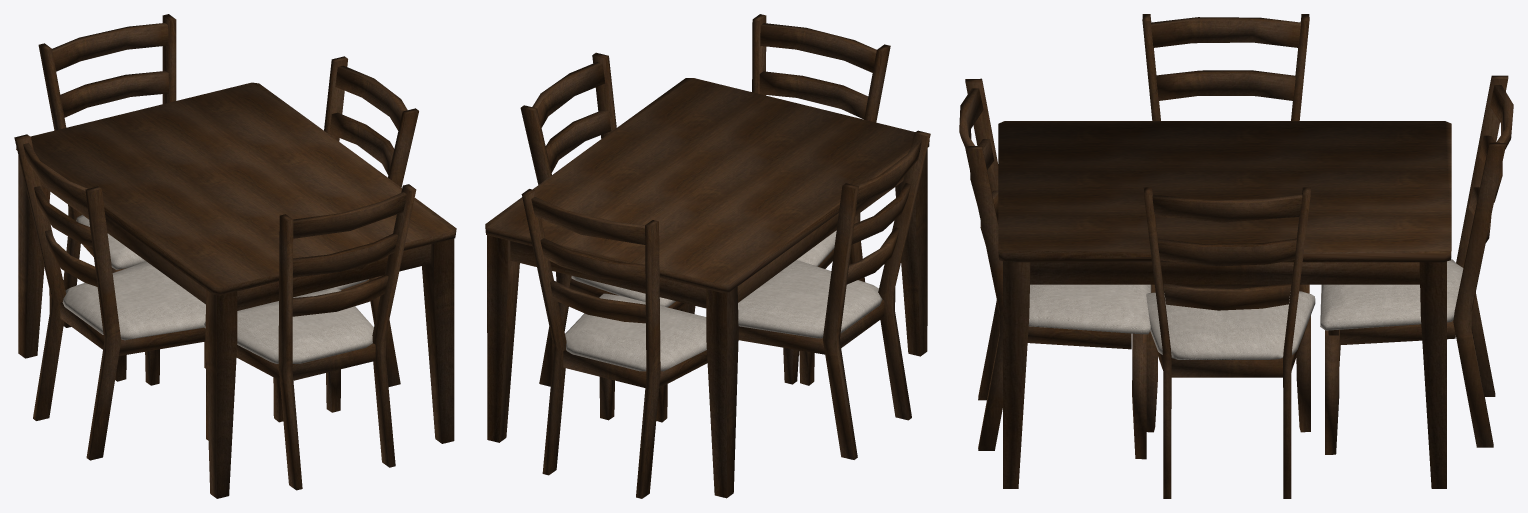
Rendered from Dining.fbx.
3 views of the same model, side by side, from view 1: azimuth 30°, elevation 25°; view 2: azimuth 150°, elevation 25°; view 3: azimuth 270°, elevation 25° (orthographic). The views are drawn at different scales.
Parts seen in each view (by area): view 1: Oslo Dining Table Set, Oslo Dining Table Set.003, Oslo Dining Table Set.004, Oslo Dining Table Set.001, Oslo Dining Table Set.002; view 2: Oslo Dining Table Set, Oslo Dining Table Set.001, Oslo Dining Table Set.004, Oslo Dining Table Set.003, Oslo Dining Table Set.002; view 3: Oslo Dining Table Set, Oslo Dining Table Set.002, Oslo Dining Table Set.001, Oslo Dining Table Set.003, Oslo Dining Table Set.004.
Boxes of the visible parts, bbox=[...] form: Oslo Dining Table Set: bbox=[16, 82, 456, 498]; Oslo Dining Table Set.003: bbox=[204, 184, 416, 490]; Oslo Dining Table Set.004: bbox=[14, 134, 205, 460]; Oslo Dining Table Set.001: bbox=[38, 14, 176, 381]; Oslo Dining Table Set.002: bbox=[204, 56, 418, 422]; Oslo Dining Table Set: bbox=[485, 78, 929, 498]; Oslo Dining Table Set.001: bbox=[521, 189, 707, 498]; Oslo Dining Table Set.004: bbox=[738, 130, 930, 459]; Oslo Dining Table Set.003: bbox=[679, 14, 890, 385]; Oslo Dining Table Set.002: bbox=[520, 52, 687, 422]; Oslo Dining Table Set: bbox=[998, 121, 1451, 488]; Oslo Dining Table Set.002: bbox=[1143, 187, 1315, 498]; Oslo Dining Table Set.001: bbox=[1320, 75, 1513, 454]; Oslo Dining Table Set.003: bbox=[959, 78, 1151, 459]; Oslo Dining Table Set.004: bbox=[1142, 14, 1309, 363].
Bounding box in the file's own units: 314 × 244 × 396.
Materials: 3 (3 with a texture image).
